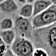cell: (15, 41, 28, 54), (16, 18, 29, 30), (2, 18, 13, 29), (43, 12, 55, 22), (2, 1, 14, 10), (35, 2, 45, 12), (3, 31, 12, 42), (22, 6, 31, 16)
